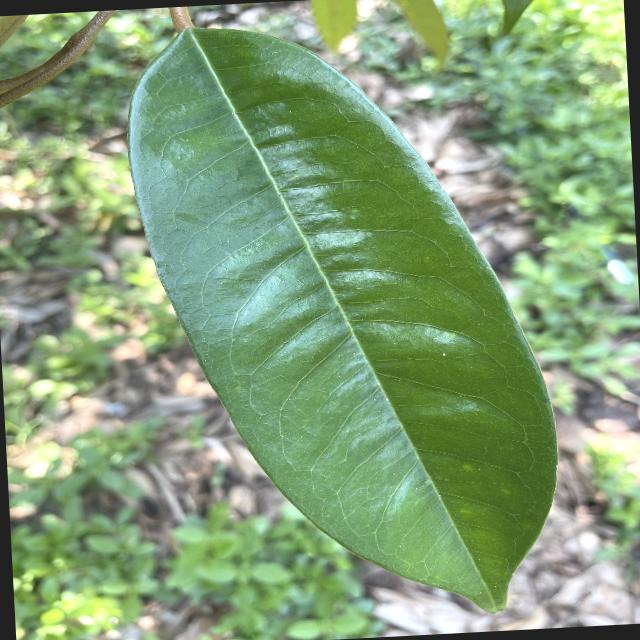No Disease: (120, 0, 580, 632)
